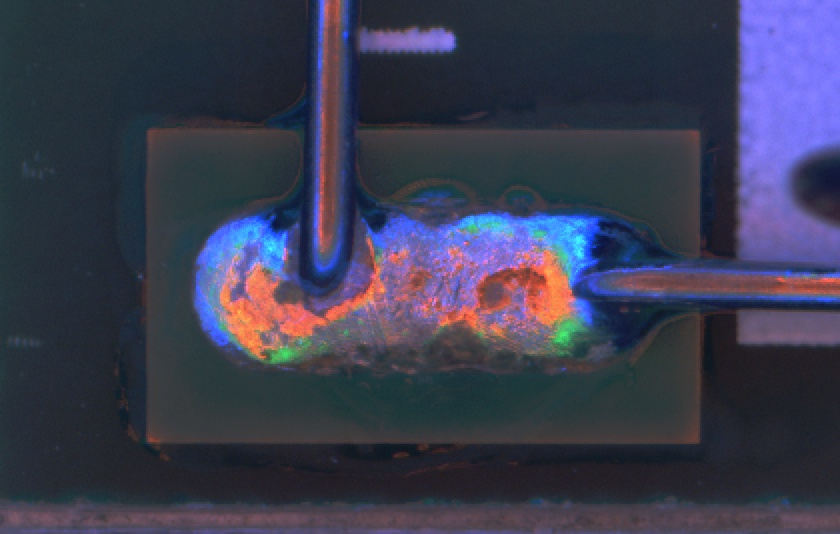spring: (550, 246, 840, 323), (299, 1, 366, 285)
spring_pin: (195, 216, 662, 362)
